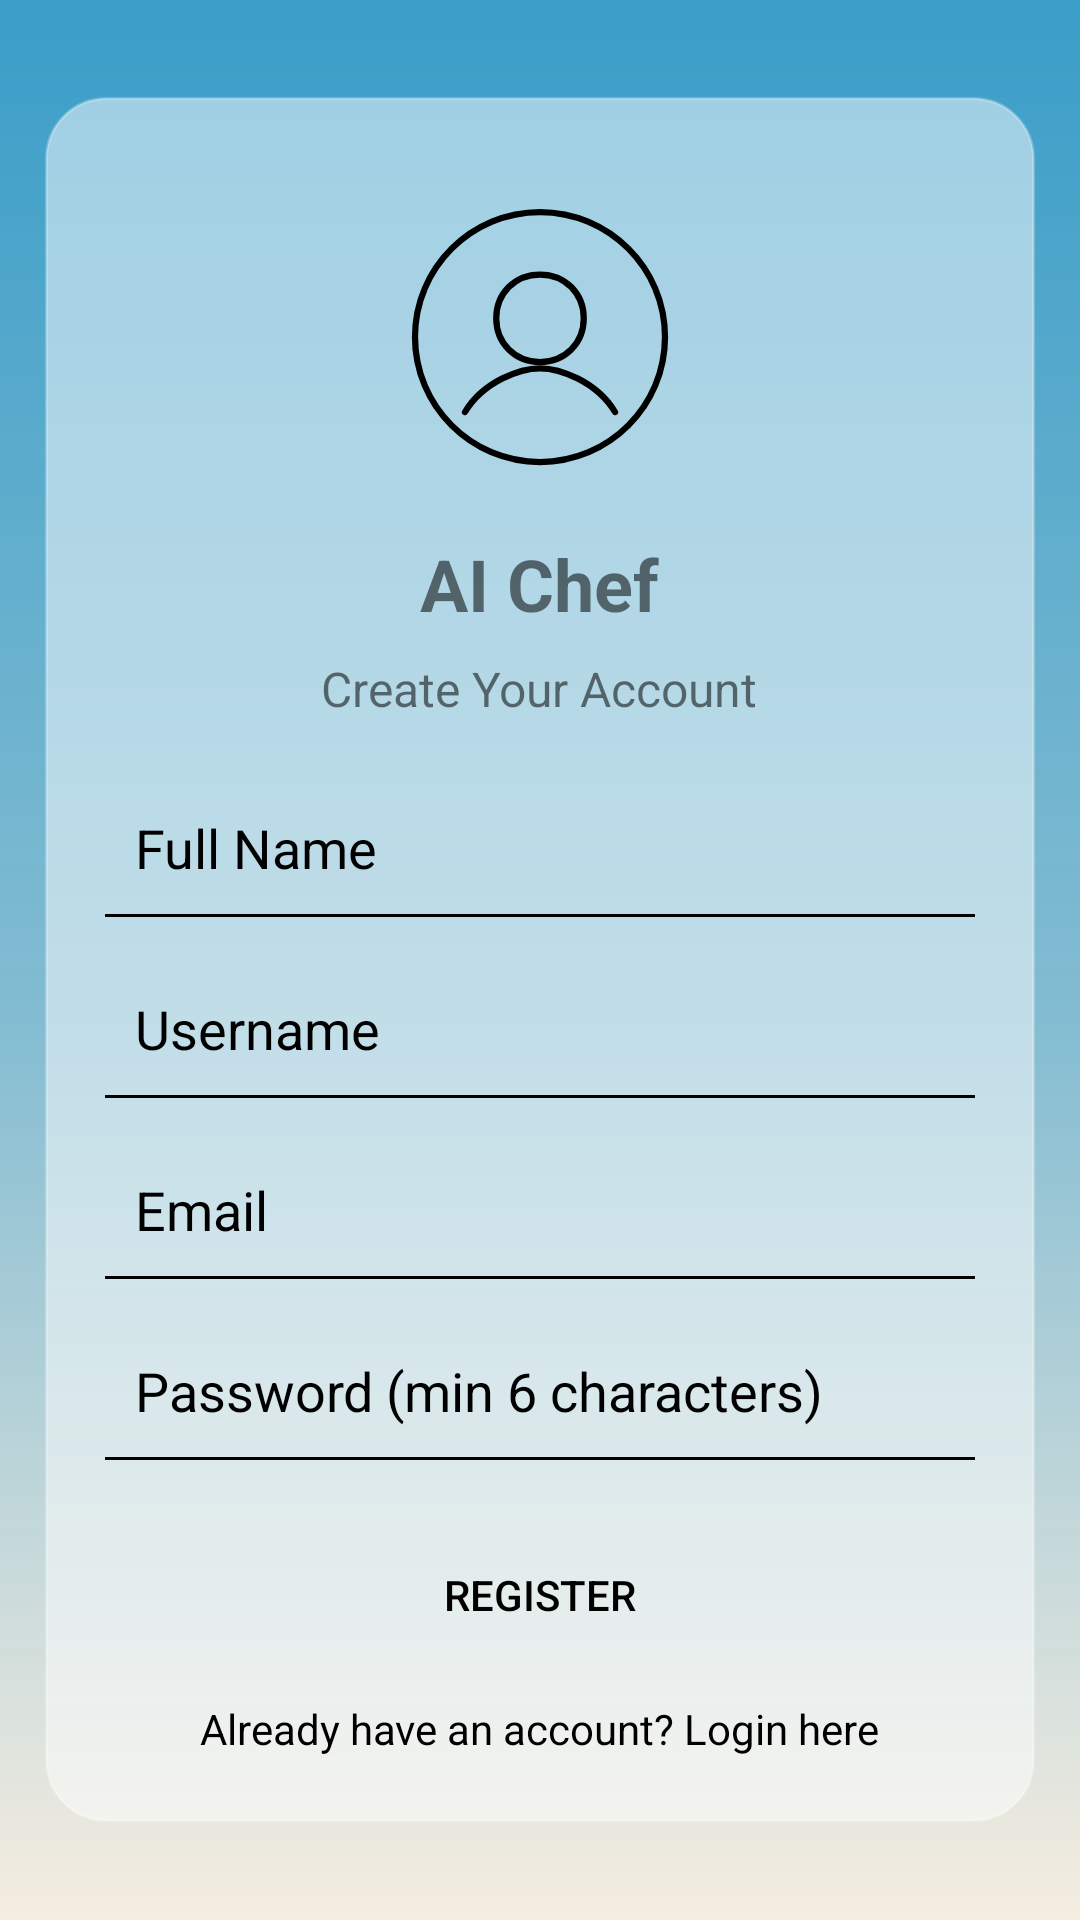

Screen size 1080x1920. Icon name, then its center in pixels as (x=x, y=y):
user: (x=540, y=337)
